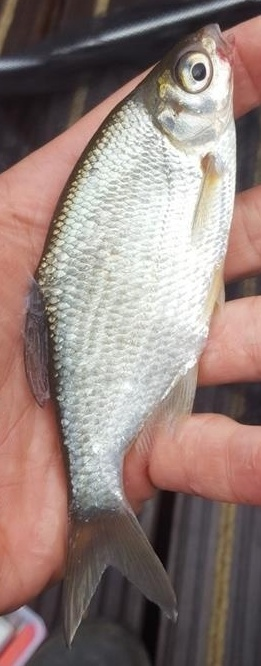Rutilus rutilus: (20, 20, 241, 646)
